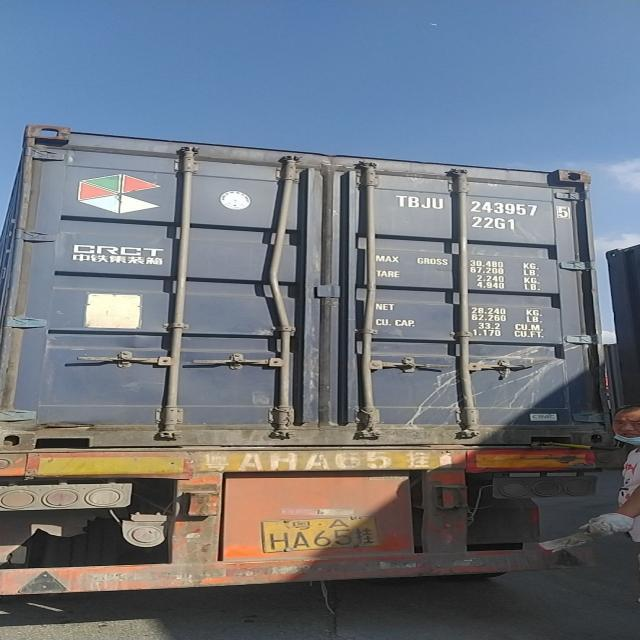ISO: (478, 217, 518, 234)
container_number: (392, 190, 578, 217)
